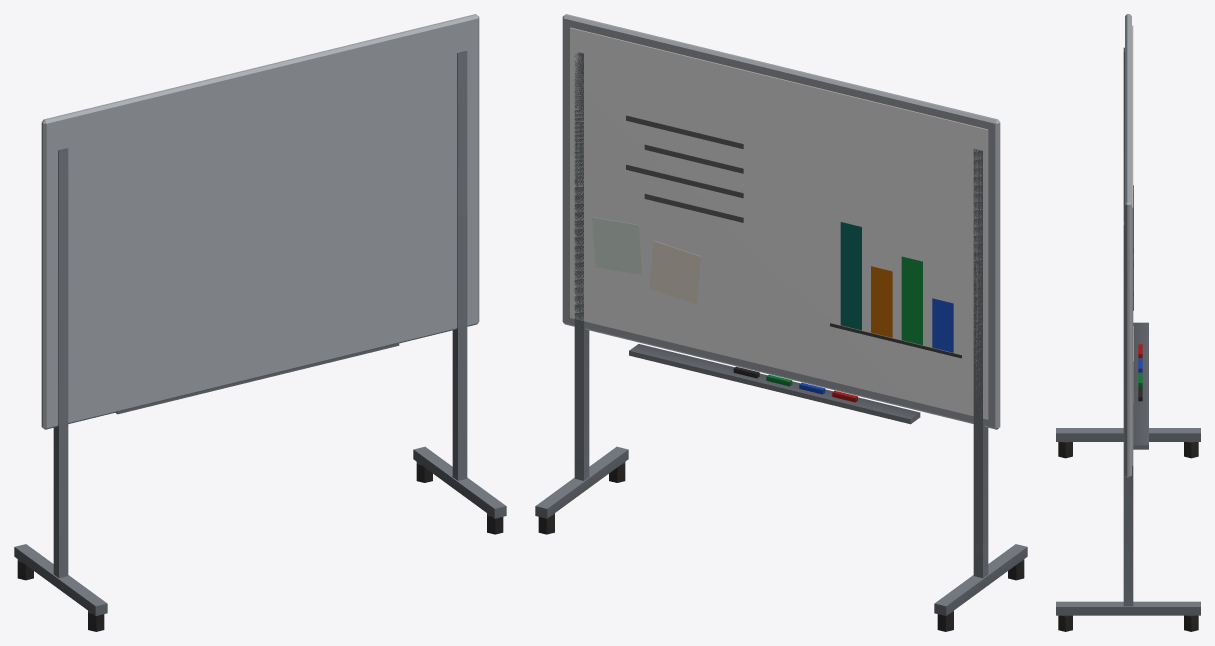
Rendered from whiteboard_01.glb.
The picture shows the model from 3 angles, left to right: view 1: azimuth 30°, elevation 25°; view 2: azimuth 150°, elevation 25°; view 3: azimuth 270°, elevation 25°; orthographic projection. The views are drawn at different scales.
Visible parts, largest first — view 1: whiteboard_01_mesh; view 2: whiteboard_01_mesh; view 3: whiteboard_01_mesh.
Boxes of the visible parts, x1=… form: whiteboard_01_mesh: x1=14, y1=14, x2=506, y2=631; whiteboard_01_mesh: x1=535, y1=14, x2=1027, y2=631; whiteboard_01_mesh: x1=1056, y1=14, x2=1200, y2=631.
Bounding box in the file's own units: 1.86 × 1.98 × 0.6.
1 material, 1 textured.
